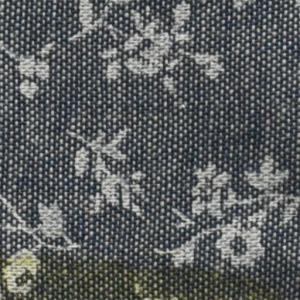Oil Stain: (1, 256, 288, 300)
